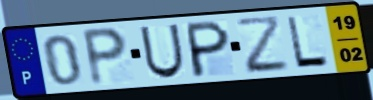0: (40, 32, 87, 86)
L: (284, 14, 333, 70)
P: (80, 25, 130, 88), (186, 18, 232, 79)
U: (137, 22, 187, 81)
Z: (233, 14, 292, 76)
